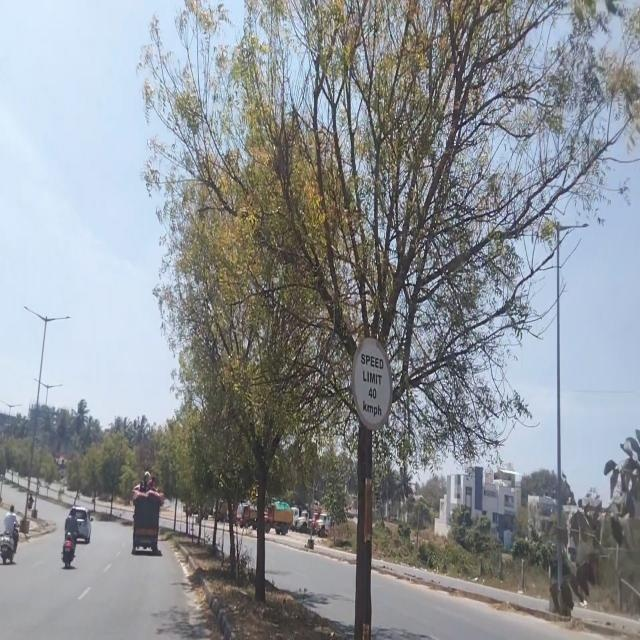bien_nguy_hiem: (353, 334, 396, 434)
